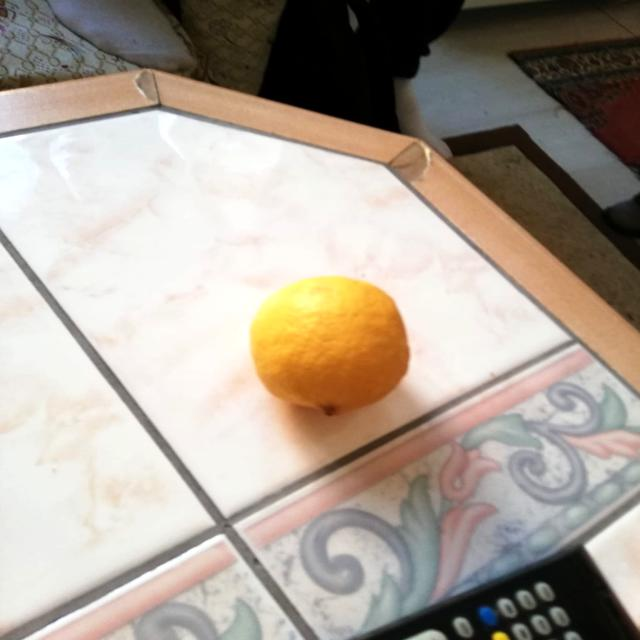lemon: (236, 266, 422, 424)
